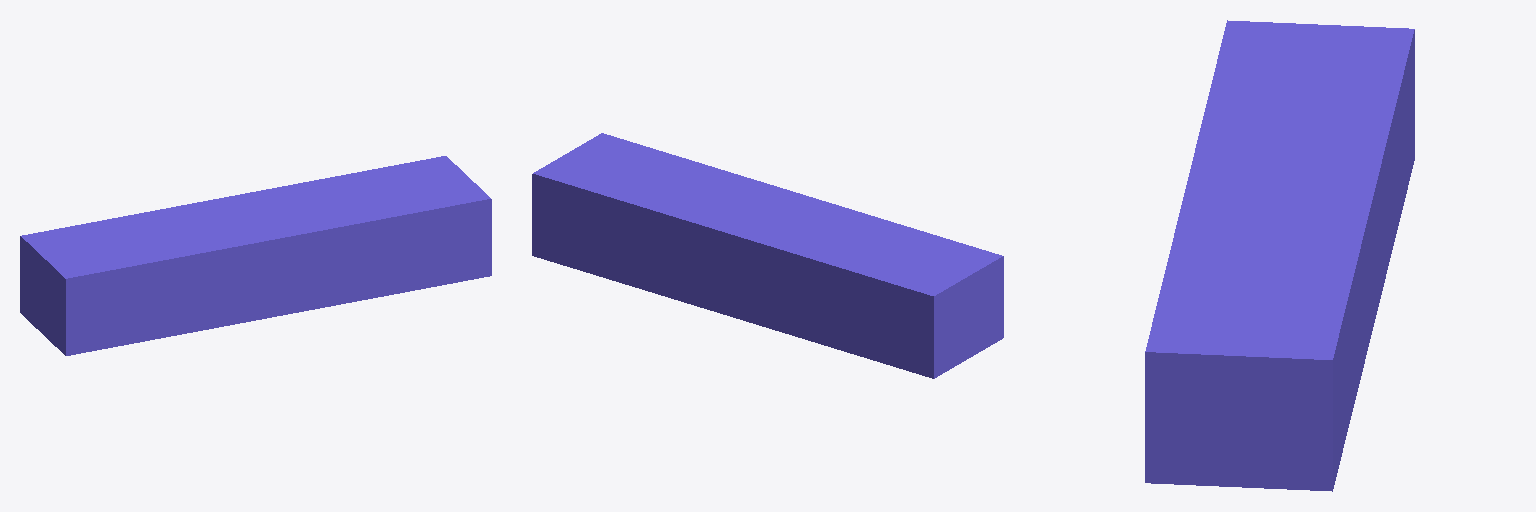
robot.urdf — Interference:
<?xml version="1.0"?>
<robot name="Interference">
  <link name="baseLink">
    <inertial>
      <origin xyz="0.0 0.0 0.0" rpy="0.0 0.0 0.0"/>
      <inertia ixx="0.0" ixy="0.0" ixz="0.0" iyy="0.0" iyz="0.0" izz="0.0"/>
      <mass value="0"/>
    </inertial>
    <visual>
      <origin xyz="0.0 0.0 0.0" rpy="0.0 0.0 1.4667274491261306"/>
      <geometry>
        <box size="0.013035047294938332 0.054491970736621556 0.01"/>
      </geometry>
      <material name="color">
        <color rgba="0.49307605496238693 0.4547684503704552 0.9371931269137355 1.0"/>
      </material>
    </visual>
  </link>
</robot>

--- Render facts (derived) ---
3 views of the same robot in one strip: view 1: azimuth 30°, elevation 25°; view 2: azimuth 150°, elevation 25°; view 3: azimuth 270°, elevation 25° (orthographic).
Robot: Interference — 1 links, 0 joints (none); root link baseLink; default pose: every joint at zero.
Visible links, largest first — view 1: baseLink; view 2: baseLink; view 3: baseLink.
Boxes of the visible links, left/top/right/bottom form: baseLink: left=20, top=156, right=491, bottom=355; baseLink: left=532, top=133, right=1003, bottom=378; baseLink: left=1145, top=20, right=1414, bottom=491.
Bounding box of the posed robot: 0.0556 × 0.0186 × 0.01 m (x, y, z).
Geometry: primitives only (box / cylinder / sphere), no mesh files.